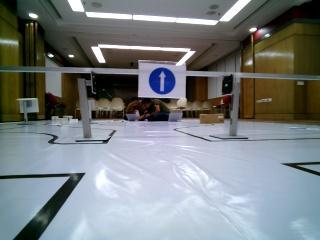straight: (139, 60, 188, 97)
